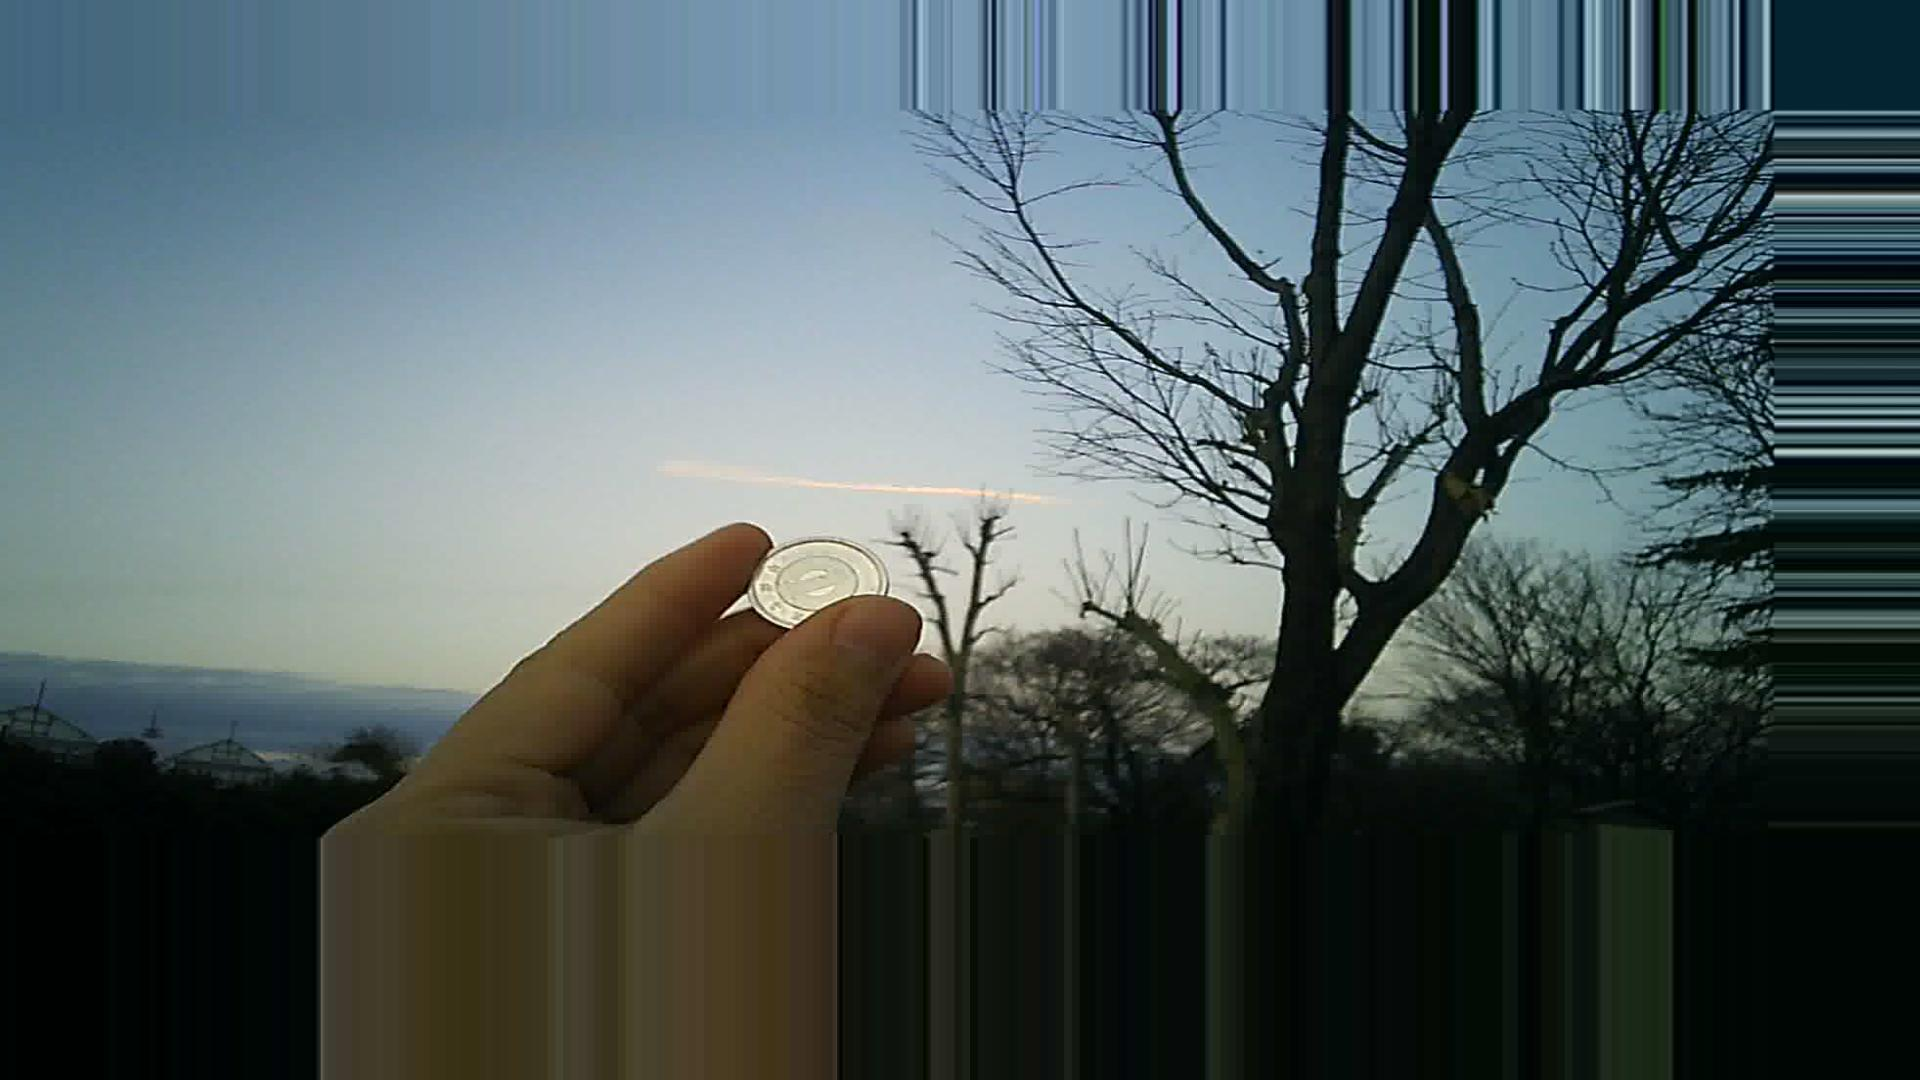1 Yen: (742, 530, 895, 655)
